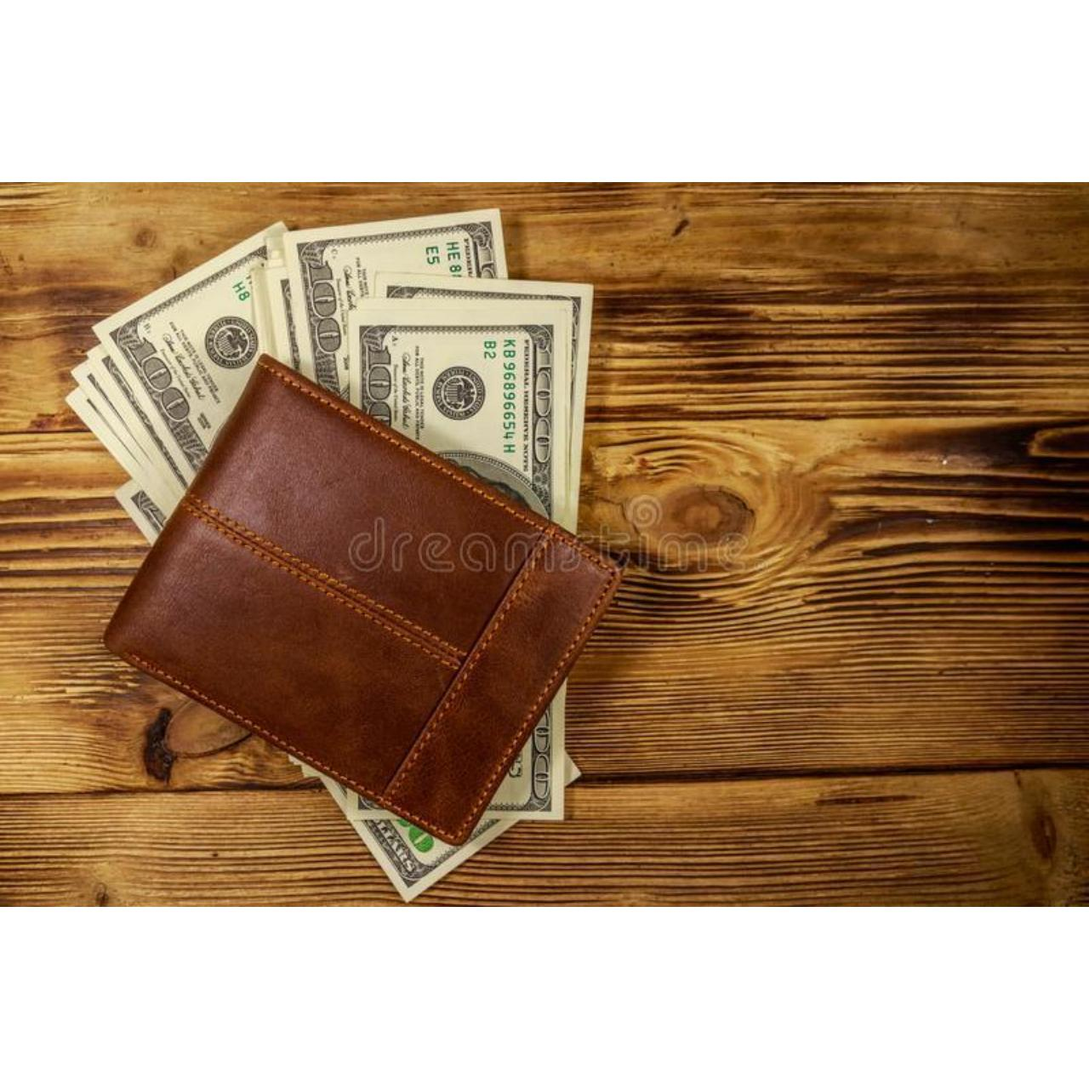wallet: (97, 333, 710, 836)
